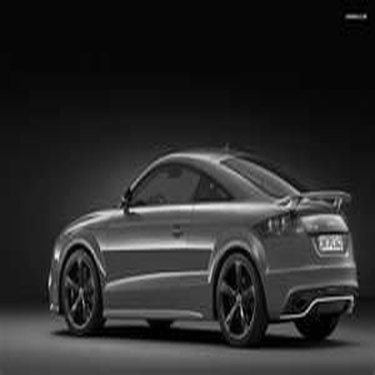car: (45, 141, 364, 349)
